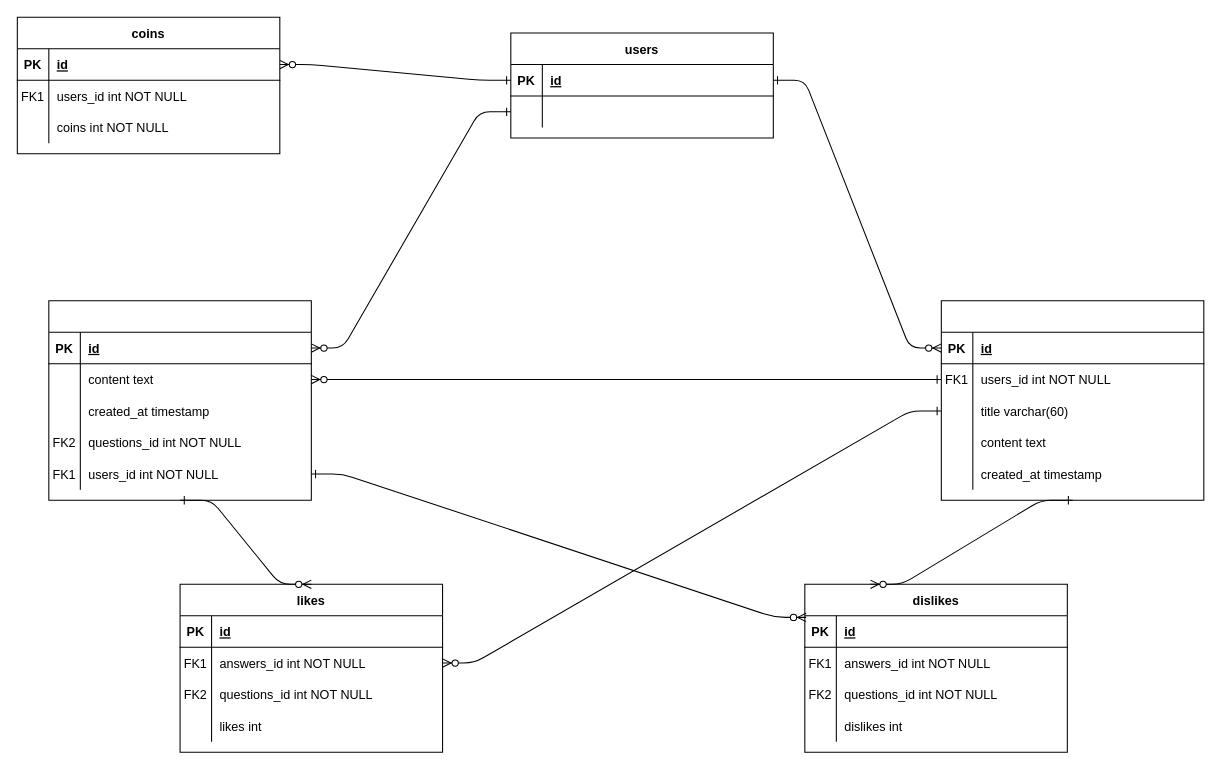
Some shapes in this 1221 by 770 pixel diagram are drawn without their labels. The shapes that lost their labels are listed below. From the top down, each one's box as (x1, y1, x2, y2) in pixels, then its label:
(48, 300, 311, 500): answers
(940, 300, 1204, 500): questions
